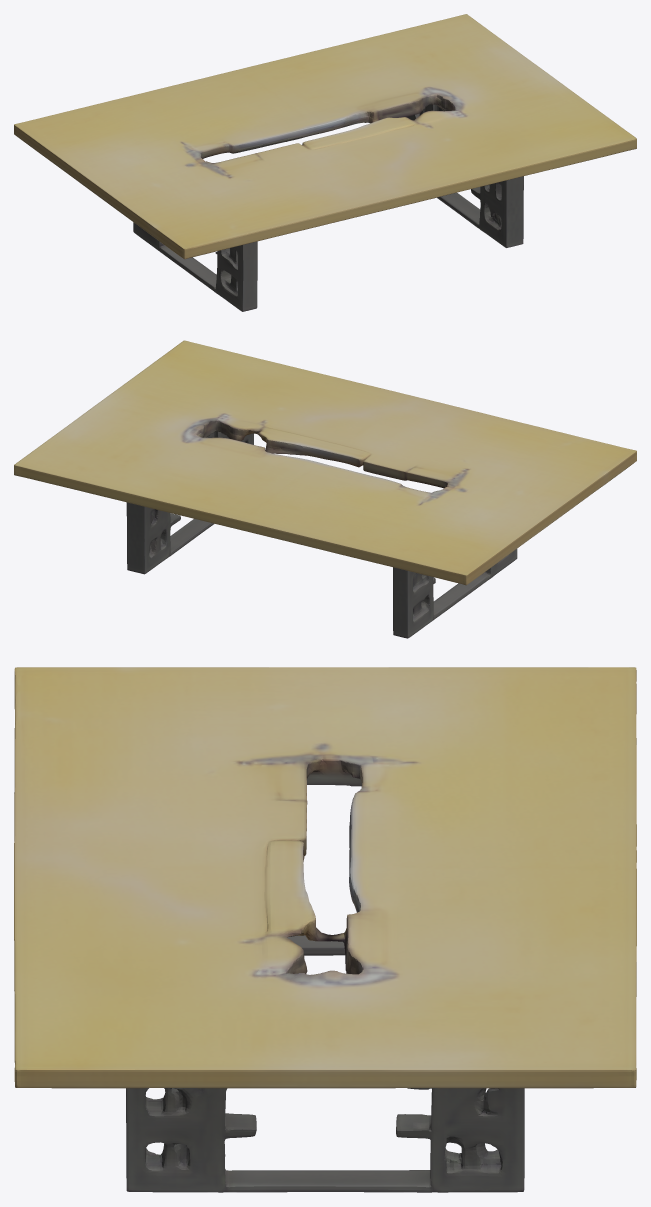
Rendered from sam3d.glb.
The picture shows the model from 3 angles, top to bottom: view 1: azimuth 30°, elevation 25°; view 2: azimuth 150°, elevation 25°; view 3: azimuth 270°, elevation 25°; orthographic projection. The views are drawn at different scales.
Parts seen in each view (by area): view 1: world; view 2: world; view 3: world.
Boxes of the visible parts, x1=… form: world: x1=14, y1=14, x2=636, y2=311; world: x1=14, y1=340, x2=636, y2=638; world: x1=14, y1=667, x2=636, y2=1192.
Size of the model in its own units: 1 by 0.2334 by 0.6541.
